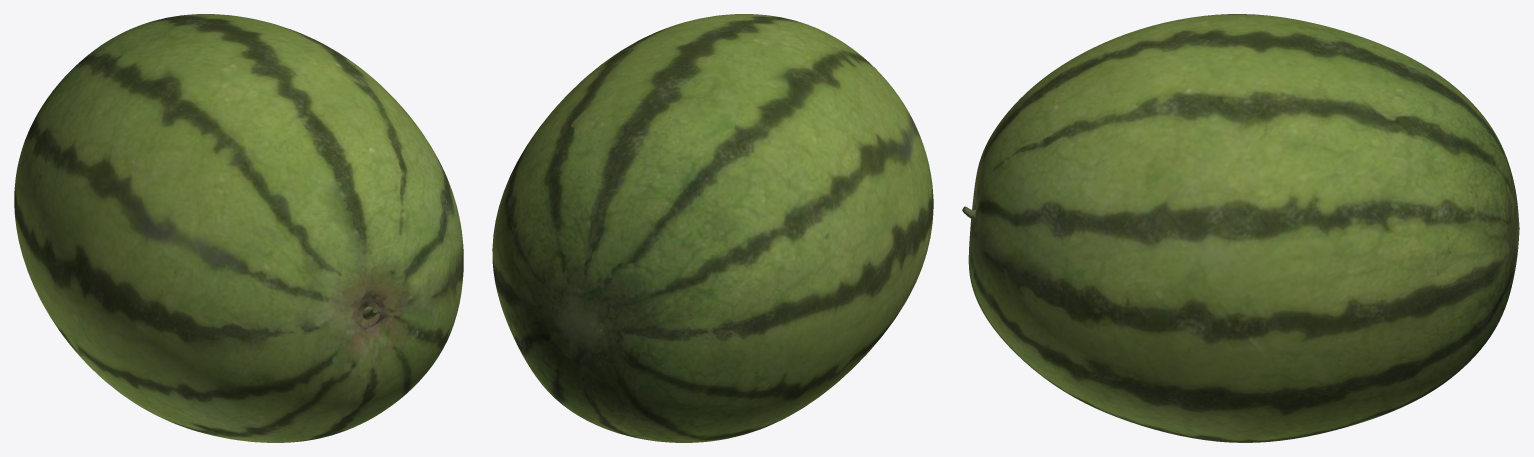
File: melon.glb
3 renders of one model, left to right at view 1: azimuth 30°, elevation 25°; view 2: azimuth 150°, elevation 25°; view 3: azimuth 270°, elevation 25°, orthographic. The views are drawn at different scales.
Visible parts, largest first — view 1: 10211_Watermelon_v1-L3; view 2: 10211_Watermelon_v1-L3; view 3: 10211_Watermelon_v1-L3.
Boxes of the visible parts, bbox=[...] form: 10211_Watermelon_v1-L3: bbox=[14, 14, 463, 442]; 10211_Watermelon_v1-L3: bbox=[492, 14, 933, 442]; 10211_Watermelon_v1-L3: bbox=[962, 14, 1519, 442].
Size of the model in its own units: 6.37 by 6.52 by 8.49.
1 material, 1 textured.
